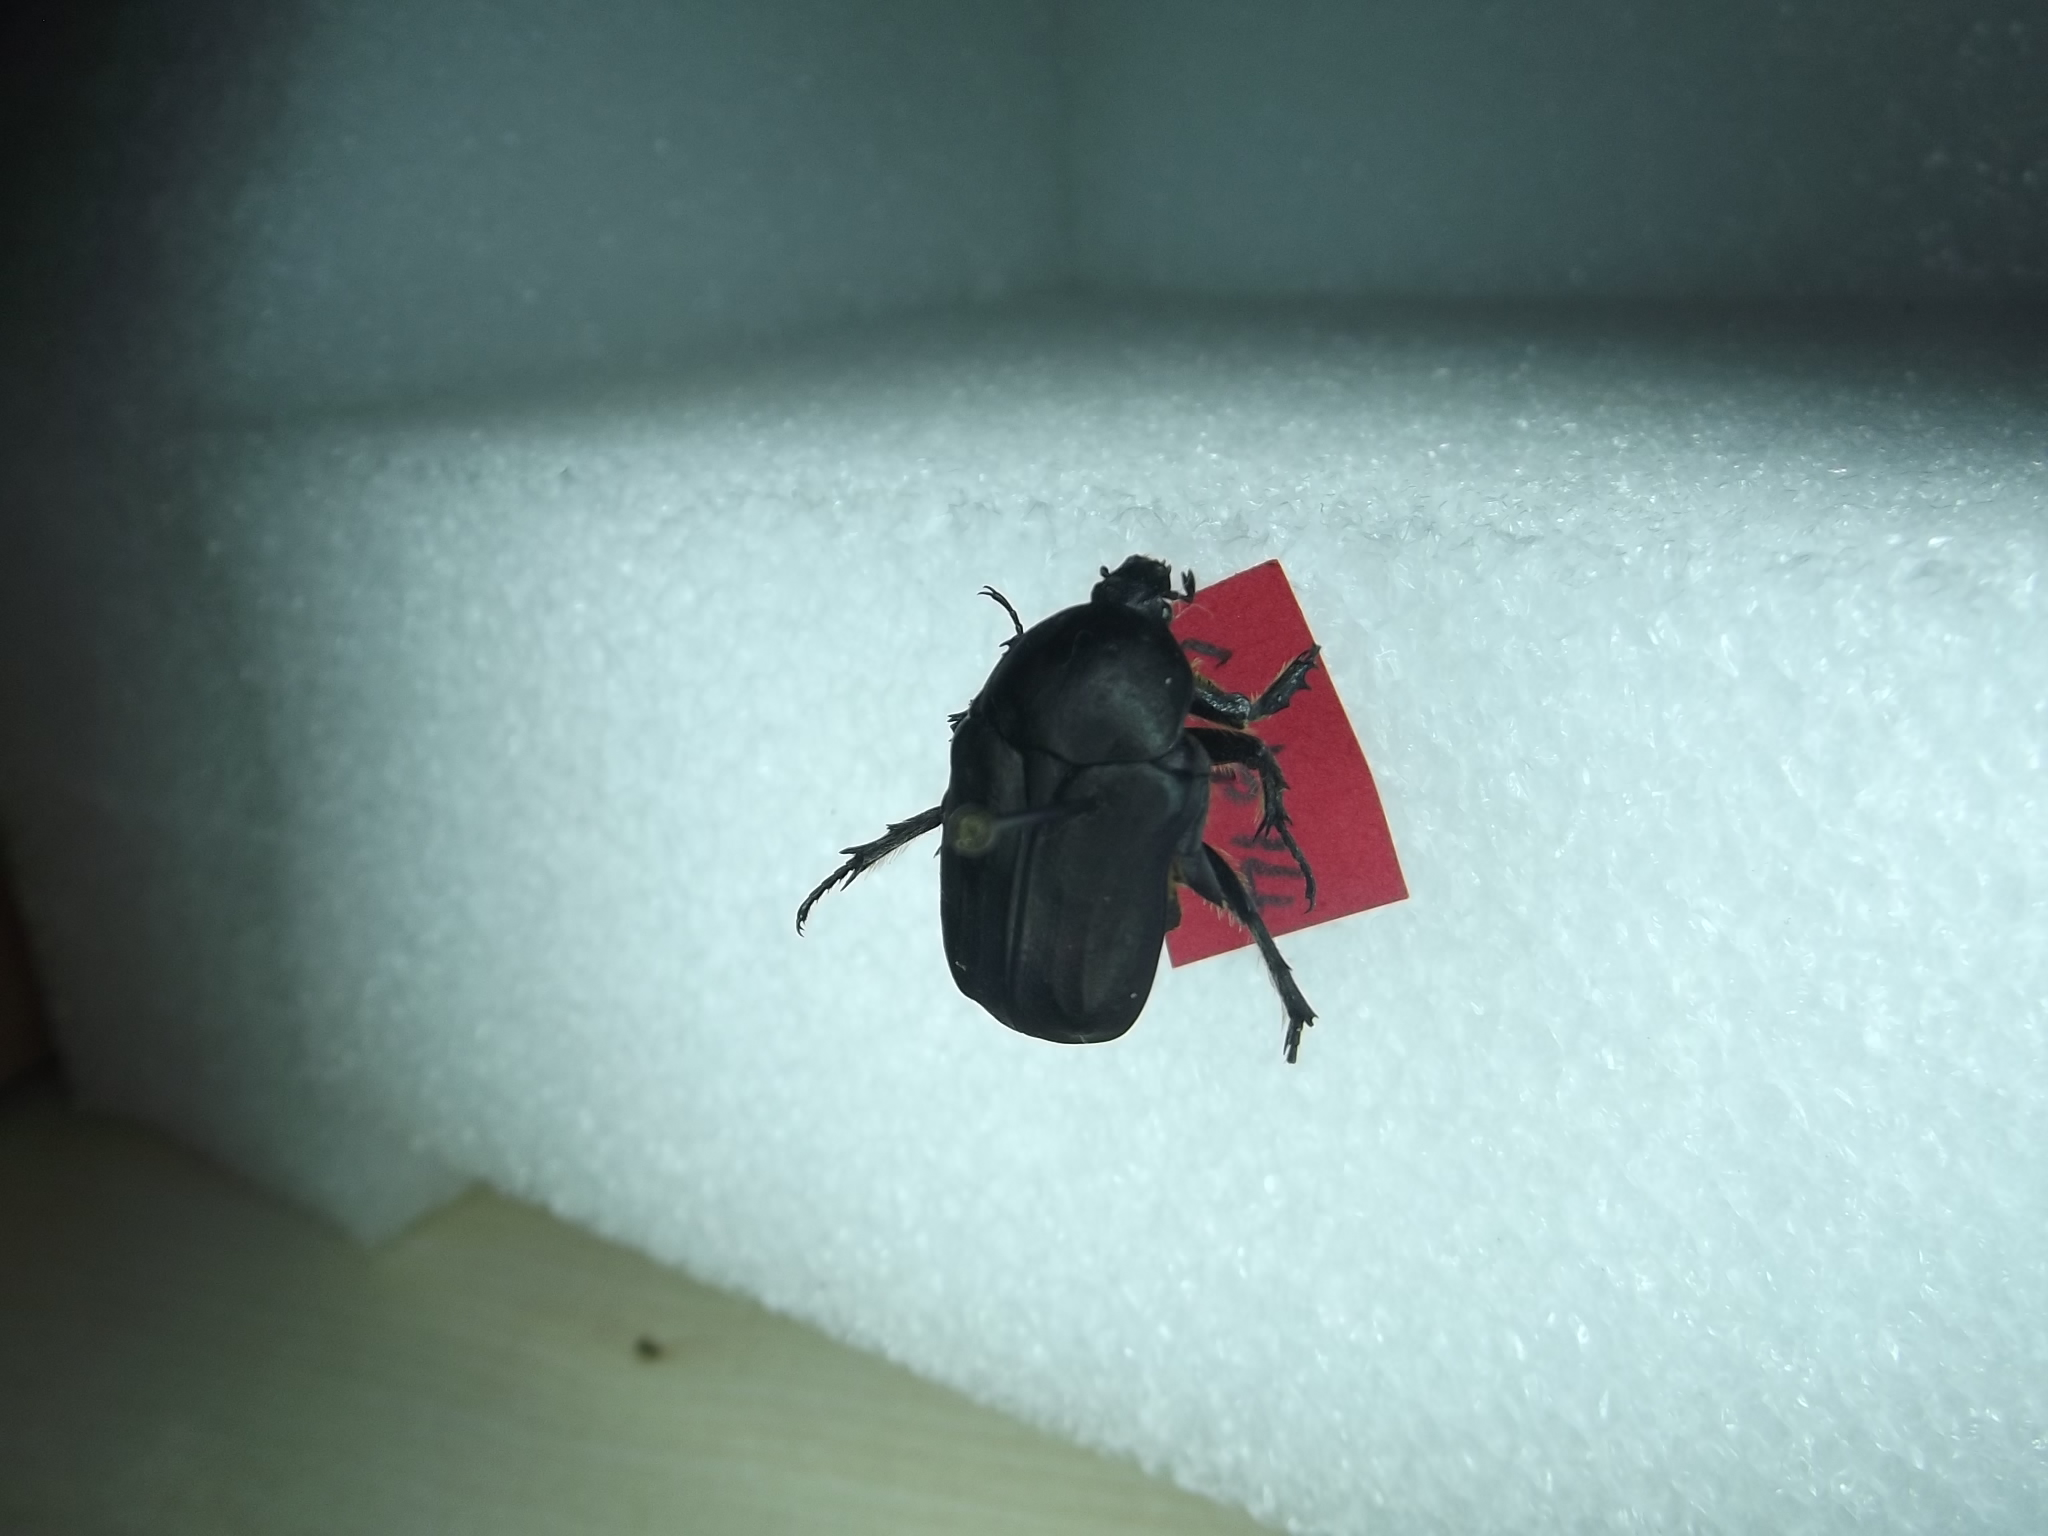Protaetia_vidua: (760, 523, 1405, 1112)
